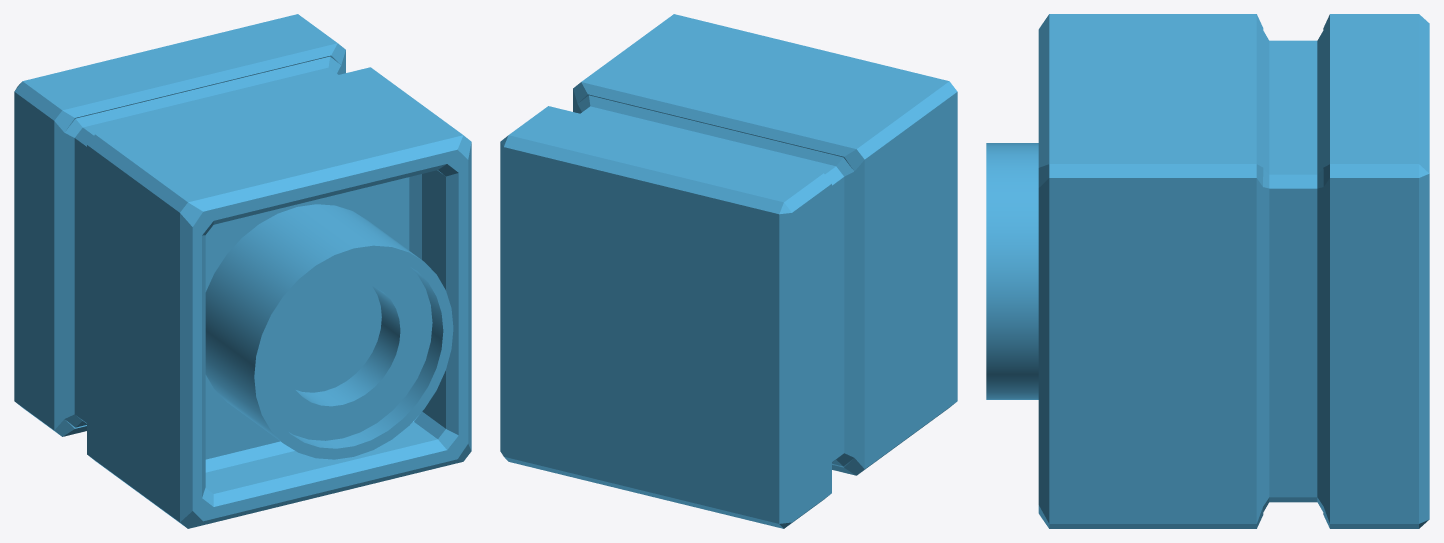
File: camera.fbx
3 renders of one model, left to right at view 1: azimuth 30°, elevation 25°; view 2: azimuth 150°, elevation 25°; view 3: azimuth 270°, elevation 25°, orthographic. The views are drawn at different scales.
Parts seen in each view (by area): view 1: 円; view 2: 円; view 3: 円.
Part boxes in pixels (<box>): 円: <box>14,14,471,528</box>; 円: <box>500,14,957,528</box>; 円: <box>986,14,1429,528</box>.
Size of the model in its own units: 0.1112 by 0.119 by 0.131.
